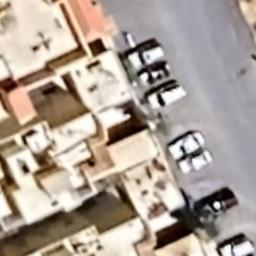SUV: (128, 42, 164, 68), (220, 237, 255, 256)
pickup: (194, 189, 240, 220)
sedan: (168, 131, 206, 161), (178, 148, 216, 175), (140, 62, 171, 86)
van: (147, 84, 188, 110)
